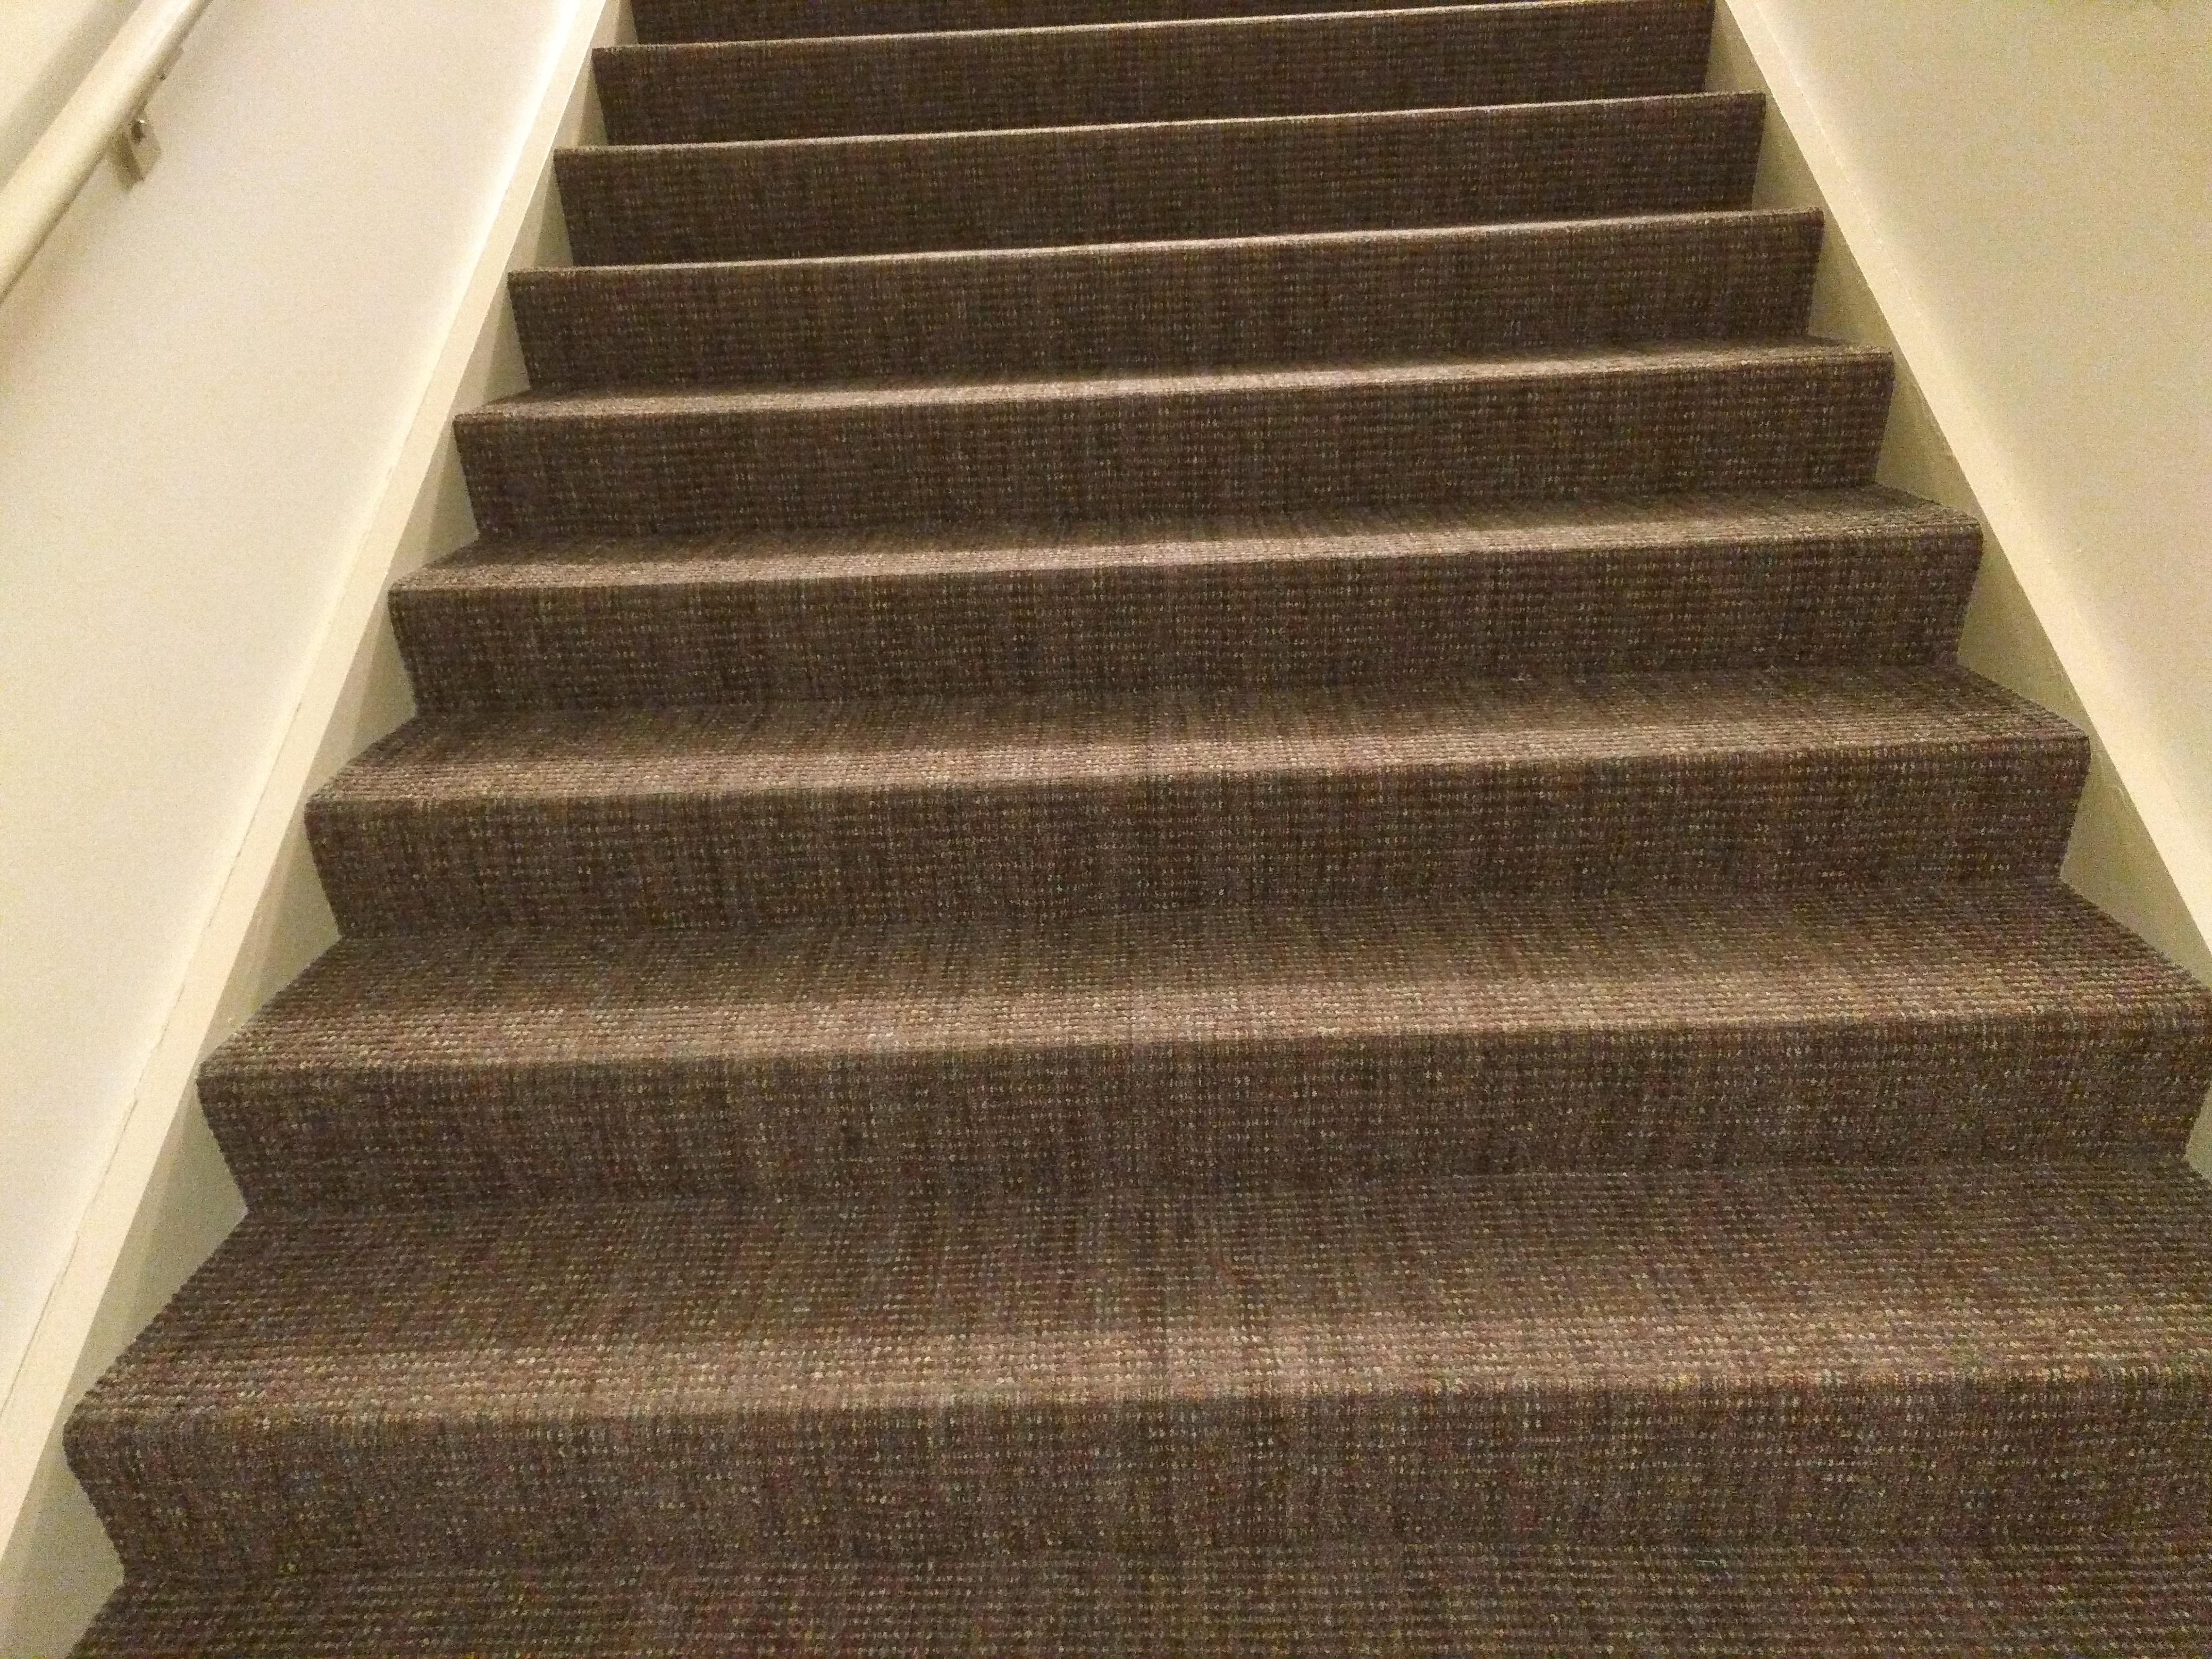stairs_up: (59, 19, 2212, 1540)
